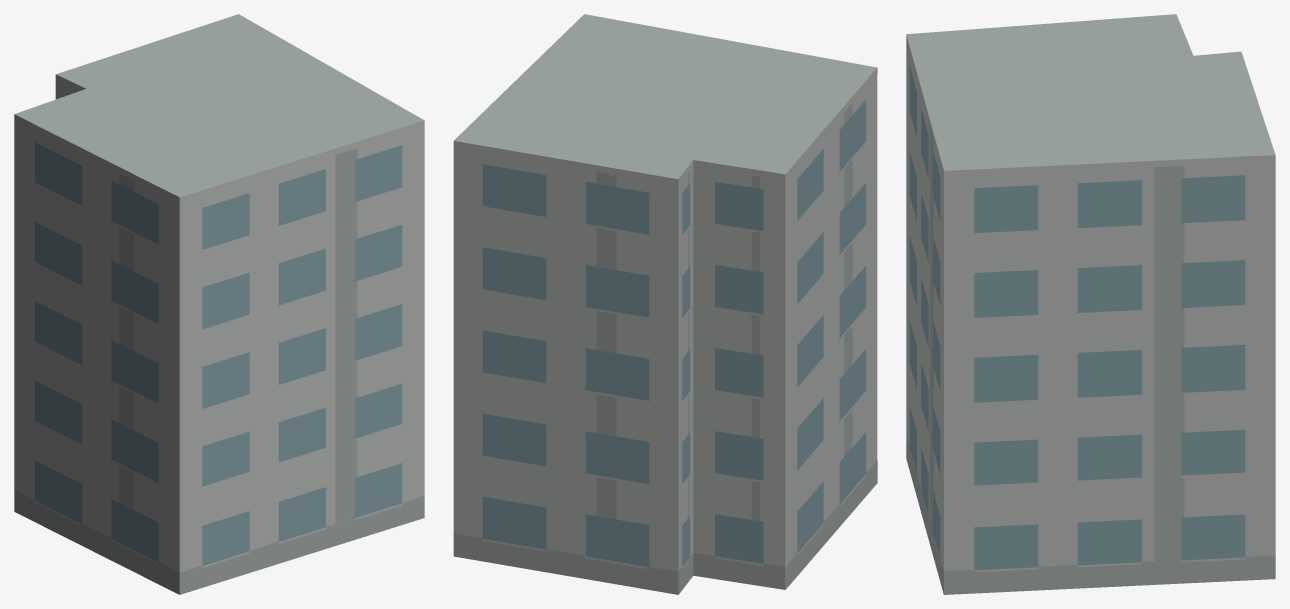
Rendered from survey-upis-32984182.glb.
The picture shows the model from 3 angles, left to right: view 1: azimuth 30°, elevation 25°; view 2: azimuth 150°, elevation 25°; view 3: azimuth 270°, elevation 25°; orthographic projection. The views are drawn at different scales.
Visible parts, largest first — view 1: survey-upis-32984182.tmp; view 2: survey-upis-32984182.tmp; view 3: survey-upis-32984182.tmp.
Boxes of the visible parts, left/top/right/bottom form: survey-upis-32984182.tmp: left=14, top=14, right=424, bottom=594; survey-upis-32984182.tmp: left=453, top=14, right=877, bottom=594; survey-upis-32984182.tmp: left=906, top=14, right=1275, bottom=594.
Size of the model in its own units: 12.23 by 15.4 by 12.17.
